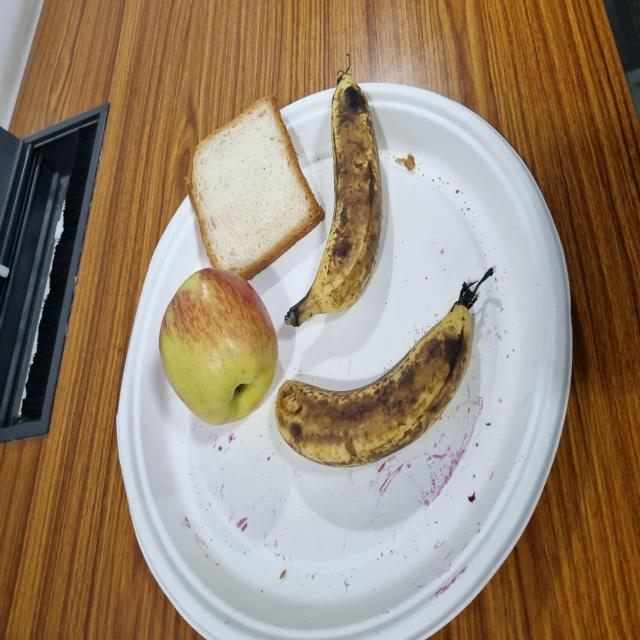apple: (161, 268, 278, 427)
banana: (276, 303, 472, 466), (285, 73, 382, 326)
